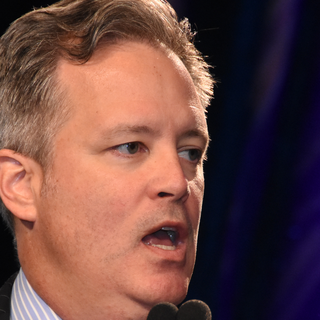eye: (104, 135, 152, 161), (171, 142, 206, 166)
